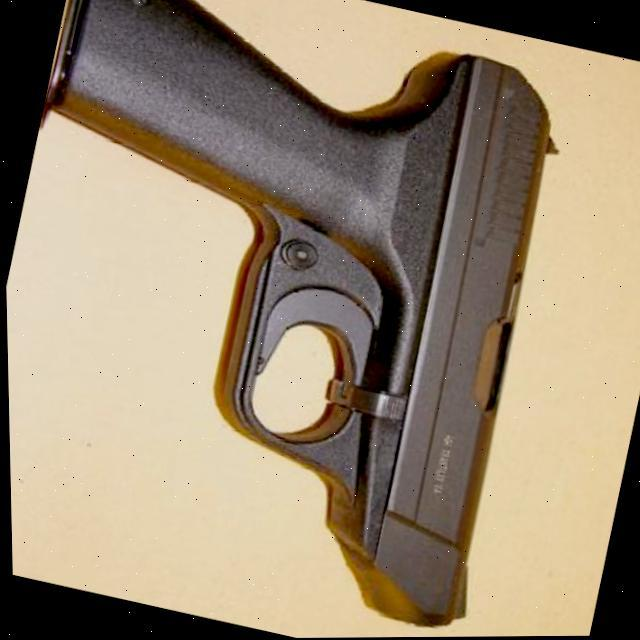gun: (0, 0, 594, 637)
